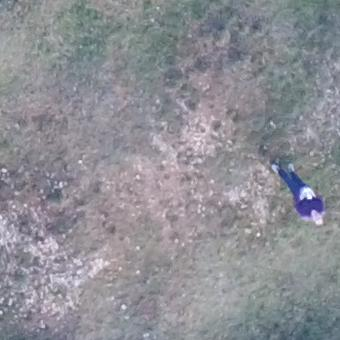human: (265, 160, 329, 227)
